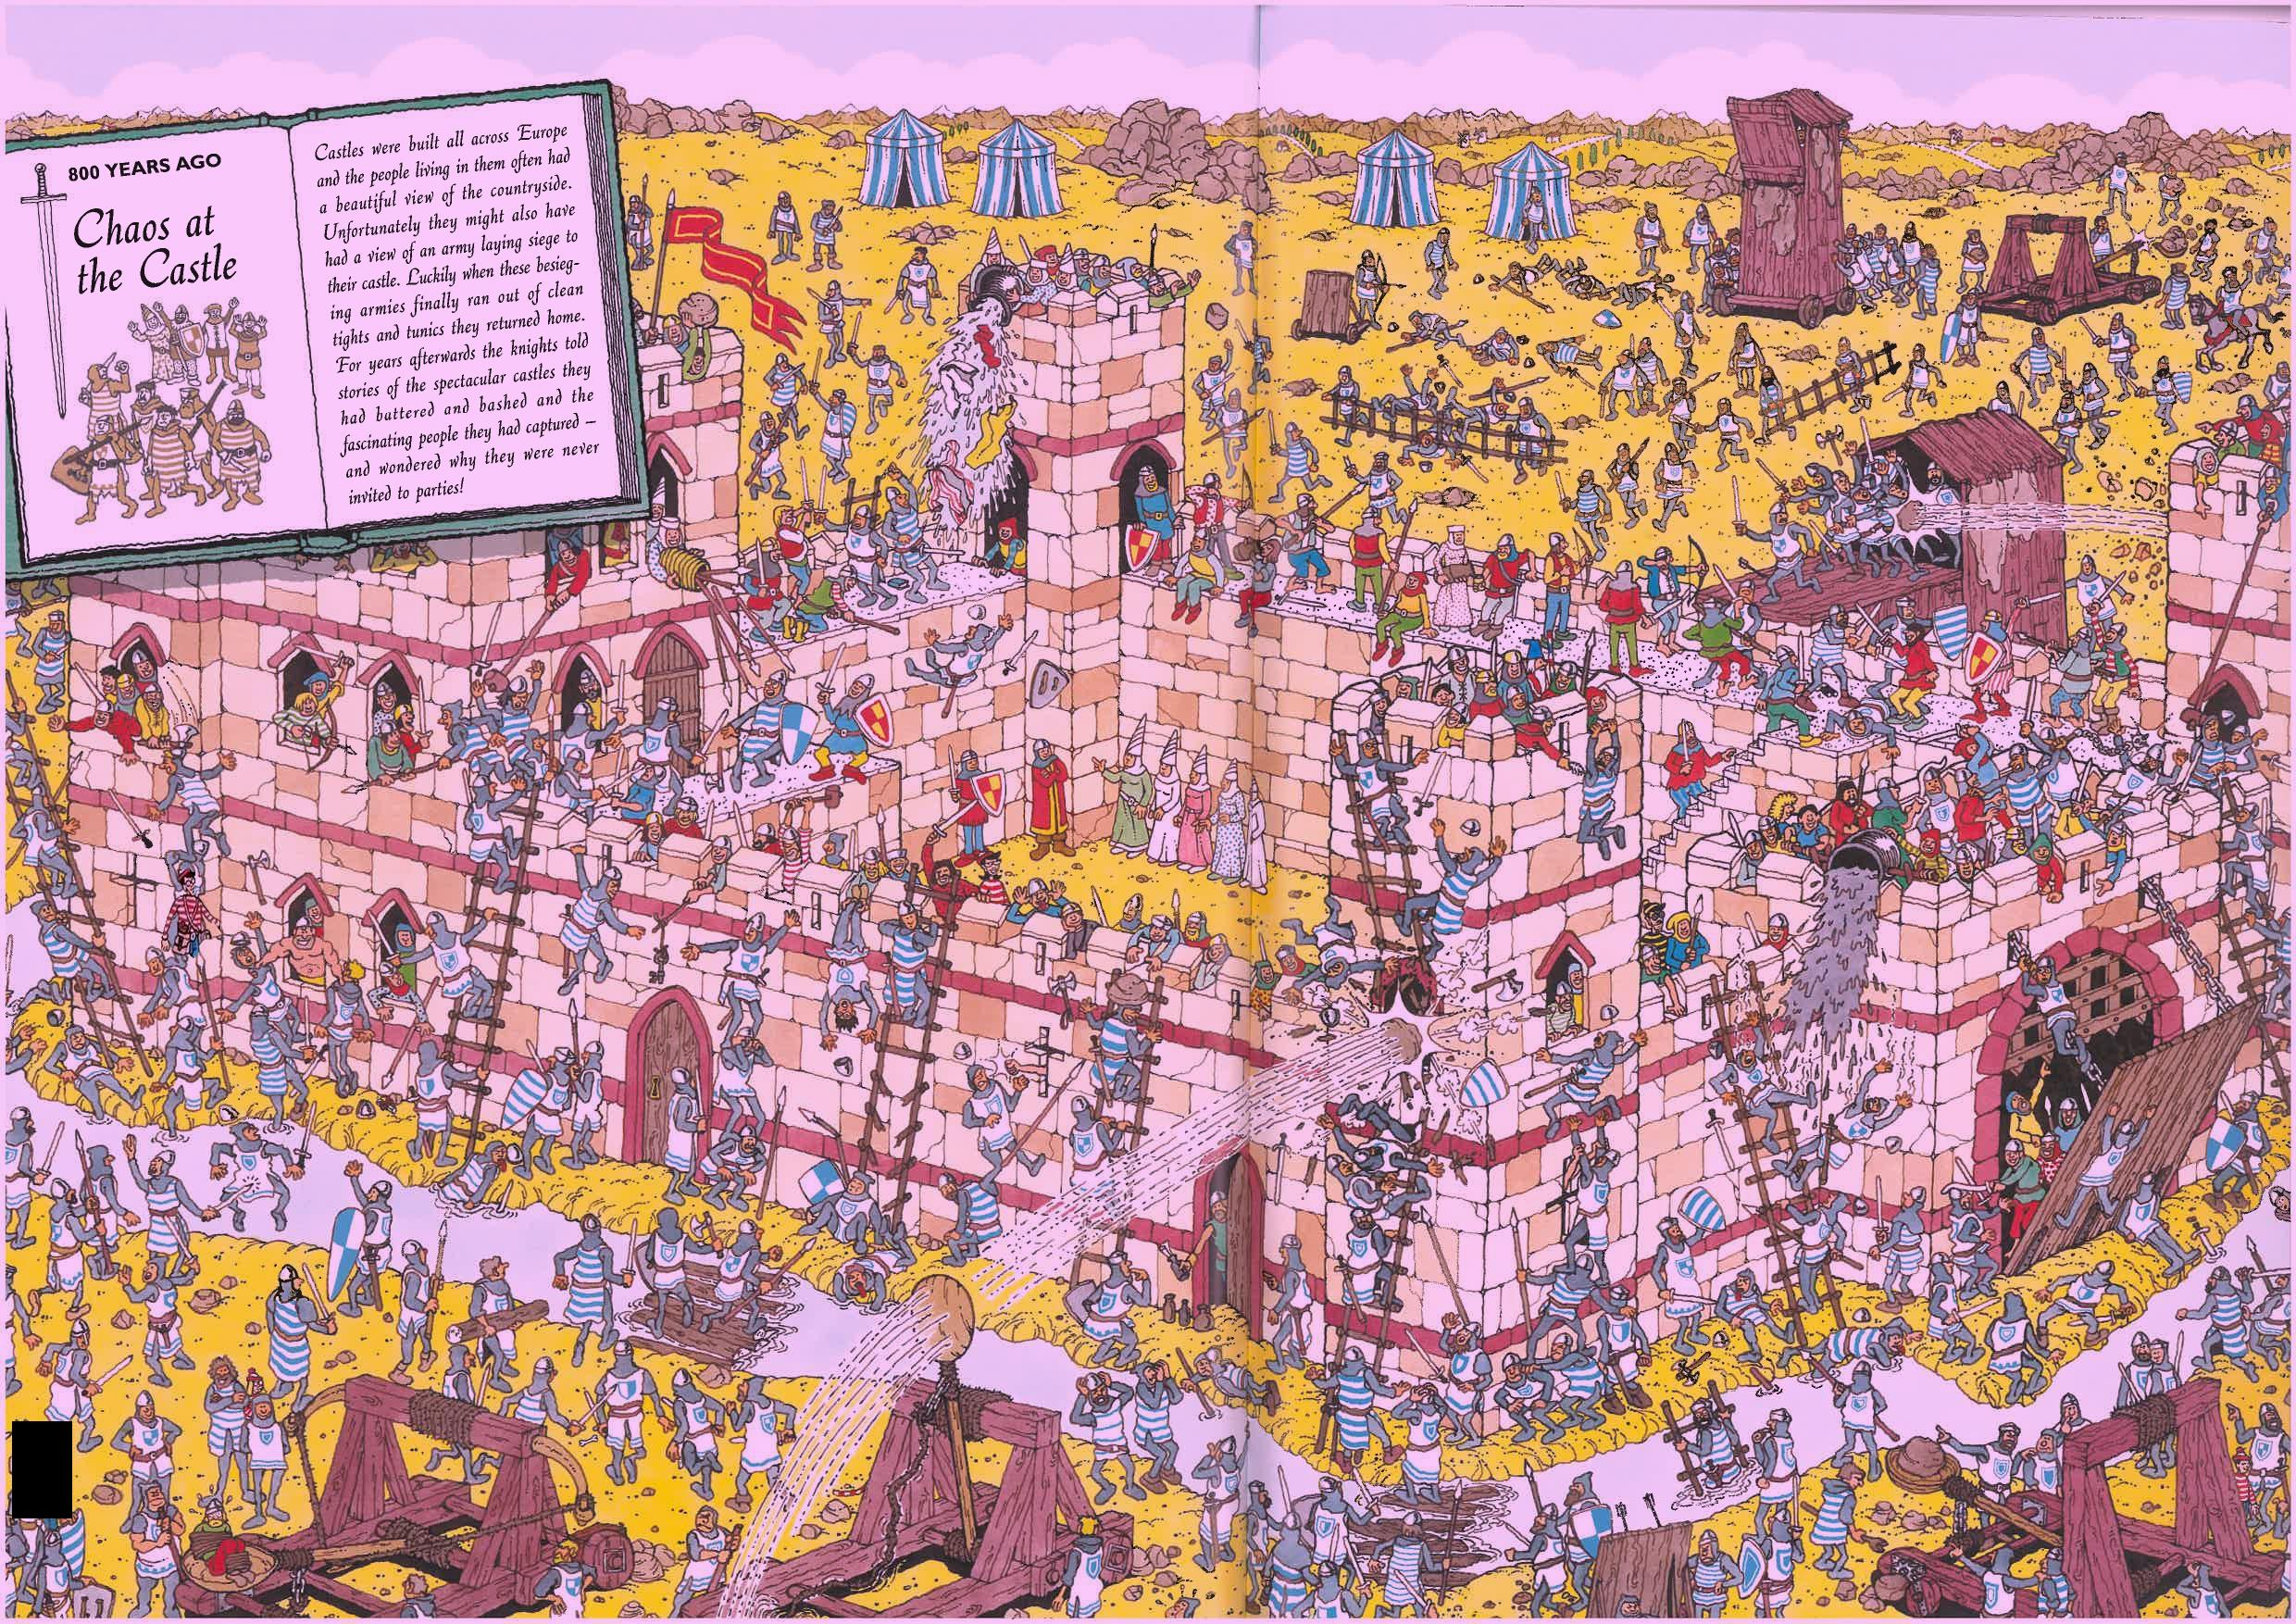waldos: (162, 870, 221, 967)
